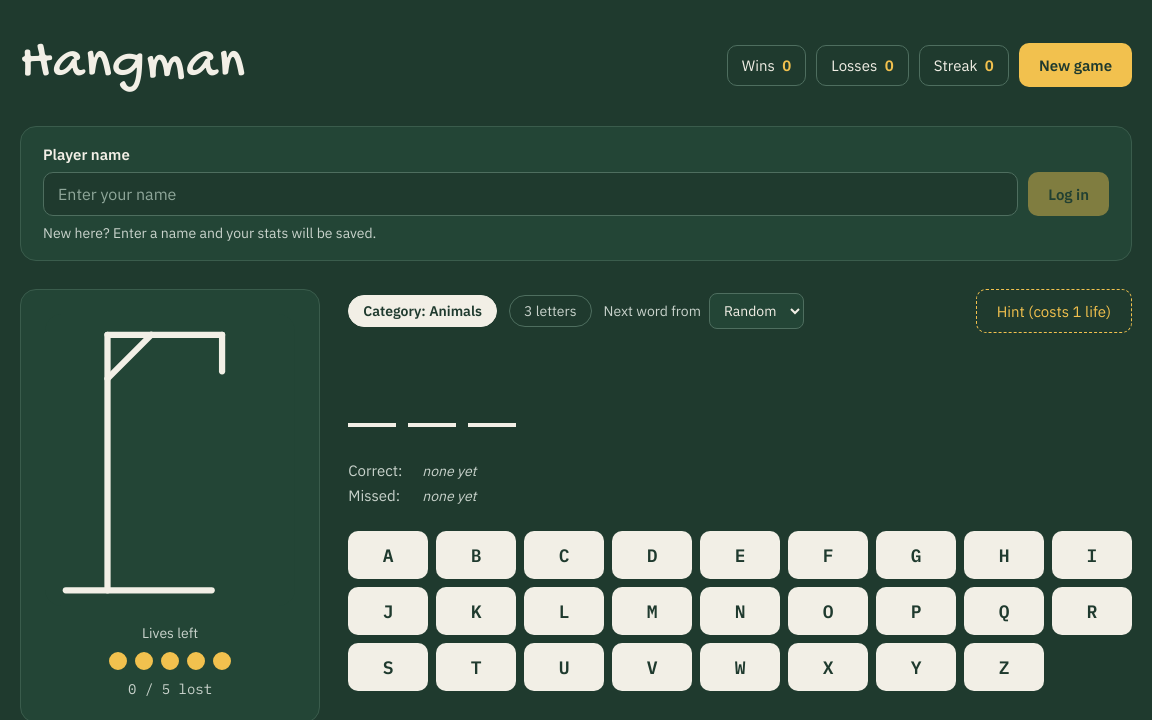
Test case: App — player login and stats › logs in an existing player with a GET and hides the login button
The width and height of the screenshot is (1152, 720).
Type "Brock" into the field labelled "Player name". click: point(531, 194)
box: [43, 172, 1018, 216]
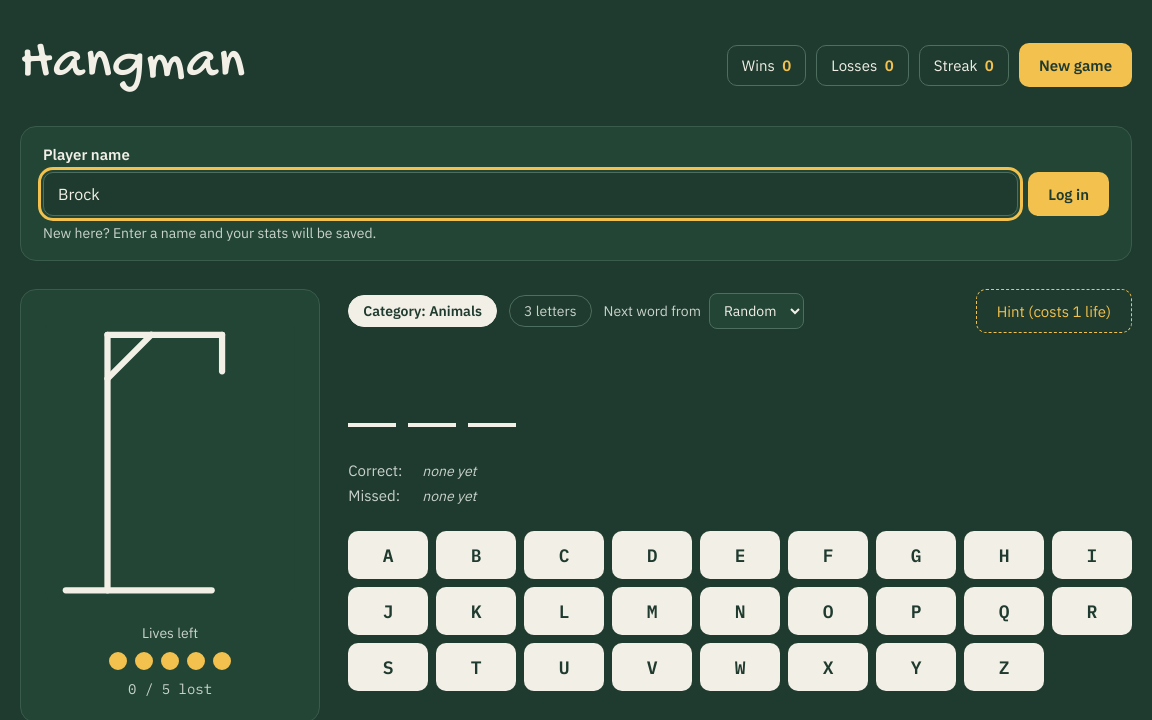
Click the button "Log in". click: point(1069, 194)
box: [1028, 172, 1109, 216]
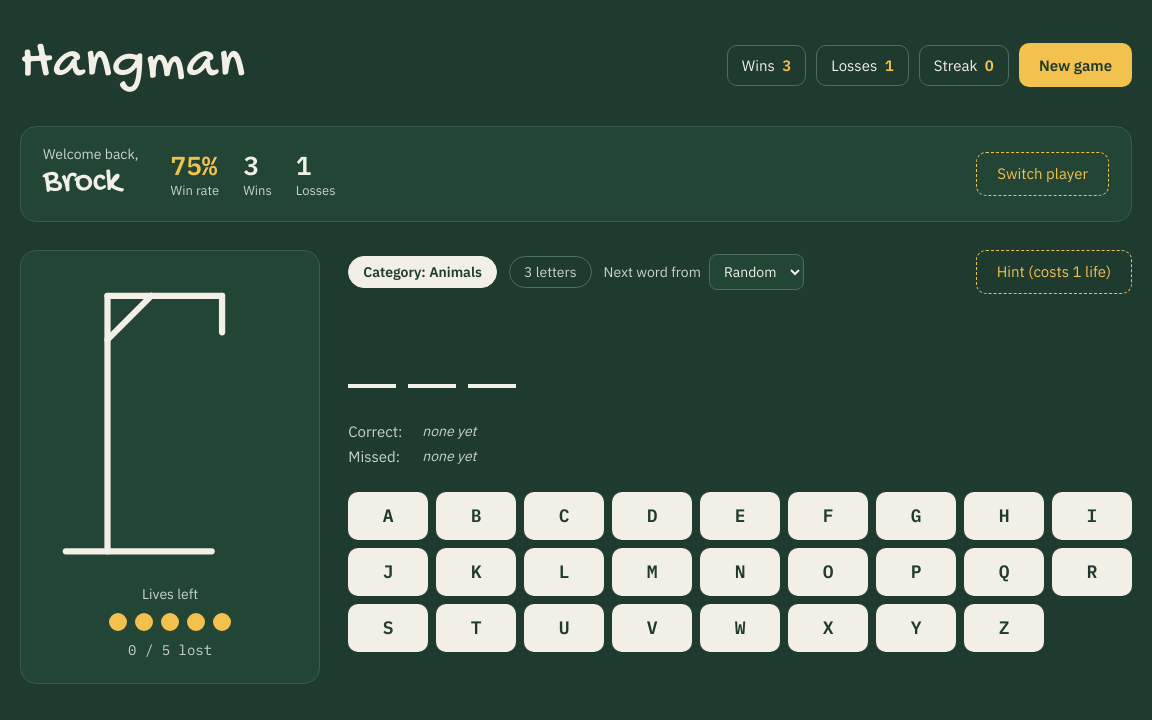
Now the text "Brock" is shown, box [43, 161, 121, 204]
Now the text "Welcome back," is shown, box [43, 145, 139, 163]
Now the text with test id "win-percentage" reads "75%", box [171, 148, 219, 182]
